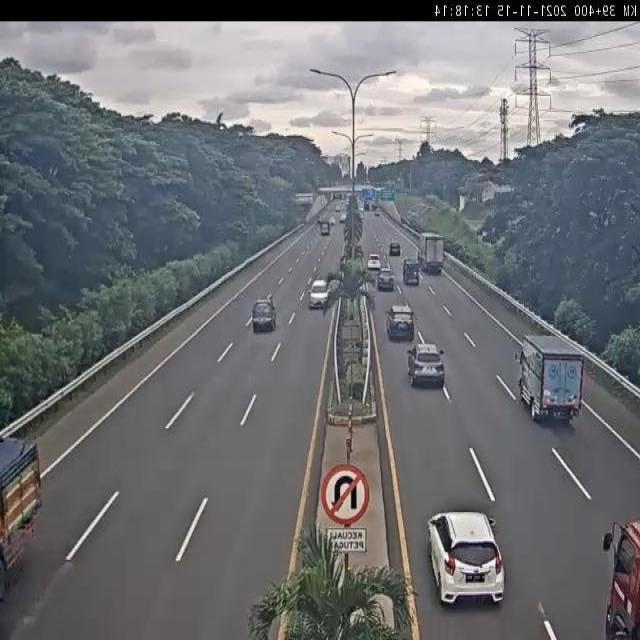Car: (425, 510, 508, 611), (407, 344, 447, 389), (384, 306, 416, 342), (308, 280, 330, 310), (378, 269, 396, 292), (366, 252, 382, 272)
Truck: (513, 334, 586, 427), (600, 519, 640, 640), (417, 230, 445, 274)
